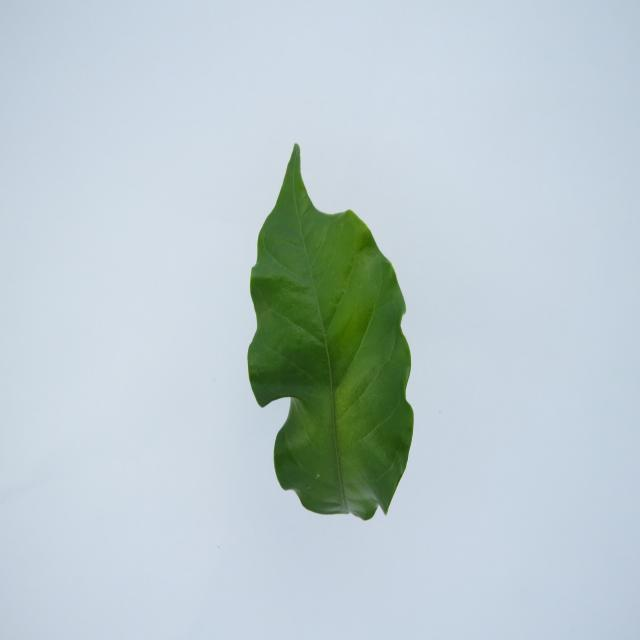DeficienciaNutricional-Calcio: (248, 145, 414, 520)
